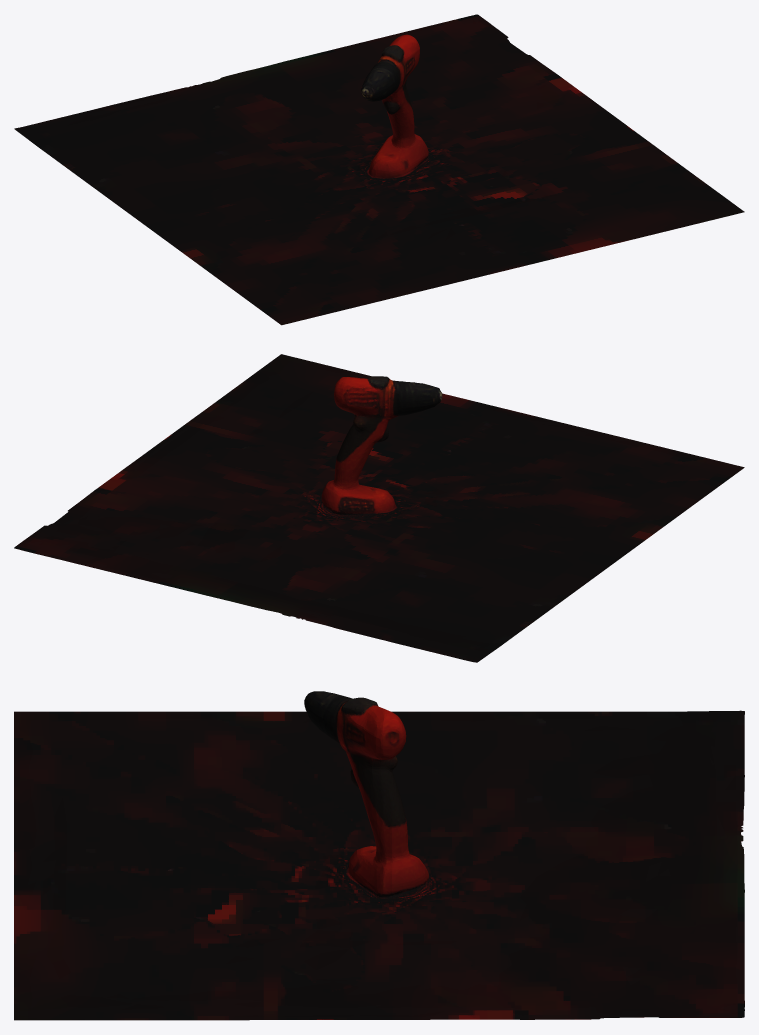
The model's file is sample.glb.
3 views of the same model, one above another, from view 1: azimuth 30°, elevation 25°; view 2: azimuth 150°, elevation 25°; view 3: azimuth 270°, elevation 25° (orthographic). The views are drawn at different scales.
Parts seen in each view (by area): view 1: world; view 2: world; view 3: world.
Boxes of the visible parts, x1,y1,x2,y2 form: world: (14, 14, 744, 325); world: (14, 354, 744, 662); world: (14, 691, 744, 1020).
Size of the model in its own units: 1 by 0.261 by 1.
1 material, 1 textured.
